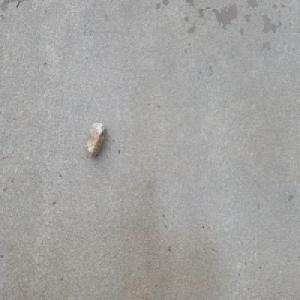Rock: (85, 119, 106, 159)
